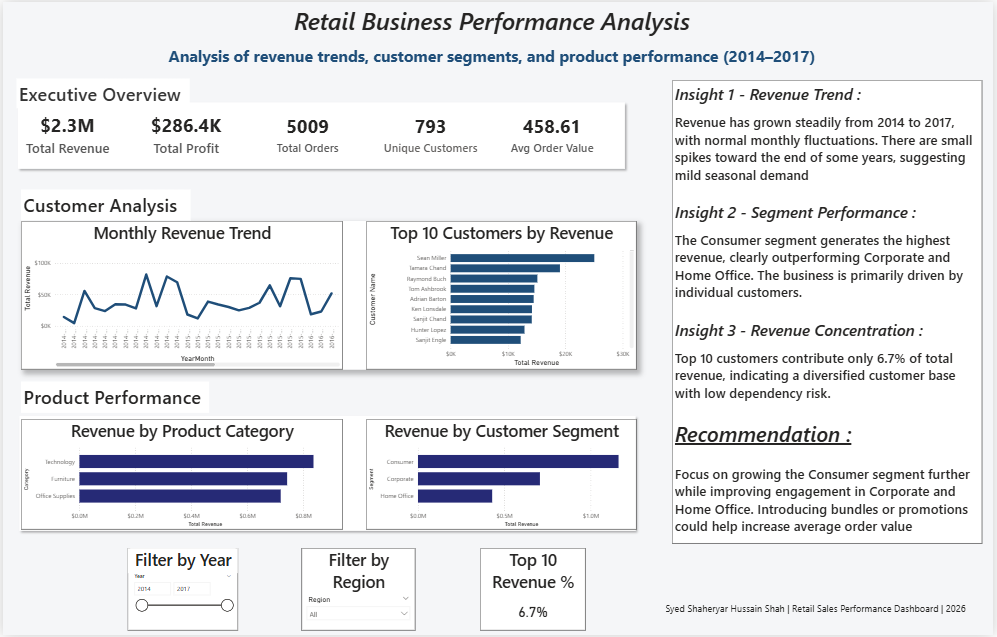

The dashboard page shown, as its layout file describes it:
{"tool":"powerbi","page":{"name":"Page 1","canvas":[2000,1280],"ordinal":0},"visuals":[{"type":"shape","box":[23.8,828.4,1262.5,250],"z":0},{"type":"shape","box":[37.5,442.5,1242.5,300],"z":1000},{"type":"shape","box":[19.8,193.1,1244,152],"z":2000},{"type":"card","fields":{"Values":["Orders_Fact.Total Revenue"]},"box":[31.7,215,200,100],"z":3000},{"type":"card","fields":{"Values":["Orders_Fact.Total Orders"]},"box":[515.8,215.1,200,100],"z":4000},{"type":"card","fields":{"Values":["Orders_Fact.Total Profit"]},"box":[268.8,215.1,200,100],"z":5000},{"type":"card","fields":{"Values":["Orders_Fact.Unique Customers"]},"box":[762.8,215.1,200,100],"z":6000},{"type":"card","fields":{"Values":["Orders_Fact.Avg Order Value"]},"box":[1009.8,215.1,200,100],"z":7000},{"type":"lineChart","title":"Monthly Revenue Trend","fields":{"Category":["DateTable.YearMonth"],"Y":["Orders_Fact.Total Revenue"]},"box":[36.7,443.3,650,300],"z":8000},{"type":"clusteredBarChart","title":"Revenue by Customer Segment","fields":{"Category":["Orders_Fact.Segment"],"Y":["Orders_Fact.Total Revenue"]},"box":[733.3,841.7,546.7,223.3],"z":9000},{"type":"clusteredBarChart","title":"Revenue by Product Category","fields":{"Category":["Orders_Fact.Category"],"Y":["Orders_Fact.Total Revenue"]},"box":[36.7,843.3,650,223.3],"z":10000},{"type":"clusteredBarChart","title":"Top 10 Customers by Revenue","fields":{"Category":["Orders_Fact.Customer Name"],"Y":["Orders_Fact.Total Revenue"]},"box":[733.3,443.3,546.7,300],"z":11000},{"type":"card","title":"Top 10 Revenue %","fields":{"Values":["Orders_Fact.Percentage"]},"box":[963.3,1103.3,213.3,166.7],"z":12000},{"type":"slicer","title":"Filter by Year","fields":{"Values":["DateTable.Year"]},"box":[250,1103.3,223.3,166.7],"z":13000},{"type":"slicer","title":"Filter by Region","fields":{"Values":["Orders_Fact.Region"]},"box":[603.3,1103.3,230,166.7],"z":14000},{"type":"textbox","box":[27.5,155,350,60],"z":15000},{"type":"textbox","box":[37.5,380,342.5,62.5],"z":16000},{"type":"textbox","box":[36.7,766.7,380,63.3],"z":17000},{"type":"textbox","box":[1350,156.7,626.7,936.7],"z":18000},{"type":"textbox","box":[315,0,1345,155],"z":19000},{"type":"textbox","box":[1332.5,1205,645,75],"z":19001}]}

Visuals, with their boxes in screenshot pixels (x1, y1, x2, y2), scaled from the page's 2000x1280 canvas onto the 997x637 screenshot:
shape: 12, 412, 641, 537
shape: 19, 220, 638, 370
shape: 10, 96, 630, 172
card - Orders_Fact.Total Revenue: 16, 107, 116, 157
card - Orders_Fact.Total Orders: 257, 107, 357, 157
card - Orders_Fact.Total Profit: 134, 107, 234, 157
card - Orders_Fact.Unique Customers: 380, 107, 480, 157
card - Orders_Fact.Avg Order Value: 503, 107, 603, 157
"Monthly Revenue Trend" lineChart: 18, 221, 342, 370
"Revenue by Customer Segment" clusteredBarChart: 366, 419, 638, 530
"Revenue by Product Category" clusteredBarChart: 18, 420, 342, 531
"Top 10 Customers by Revenue" clusteredBarChart: 366, 221, 638, 370
"Top 10 Revenue %" card: 480, 549, 587, 632
"Filter by Year" slicer: 125, 549, 236, 632
"Filter by Region" slicer: 301, 549, 415, 632
textbox: 14, 77, 188, 107
textbox: 19, 189, 189, 220
textbox: 18, 382, 208, 413
textbox: 673, 78, 985, 544
textbox: 157, 0, 828, 77
textbox: 664, 600, 986, 636
